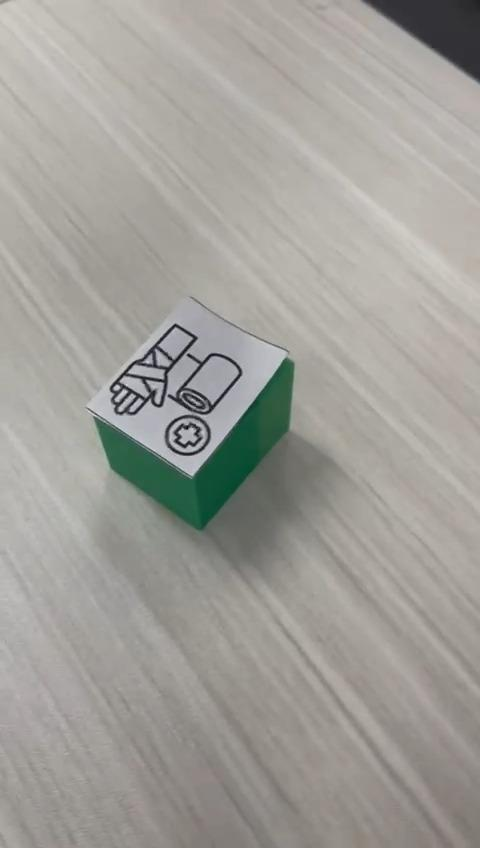Bandages: (86, 294, 295, 533)
